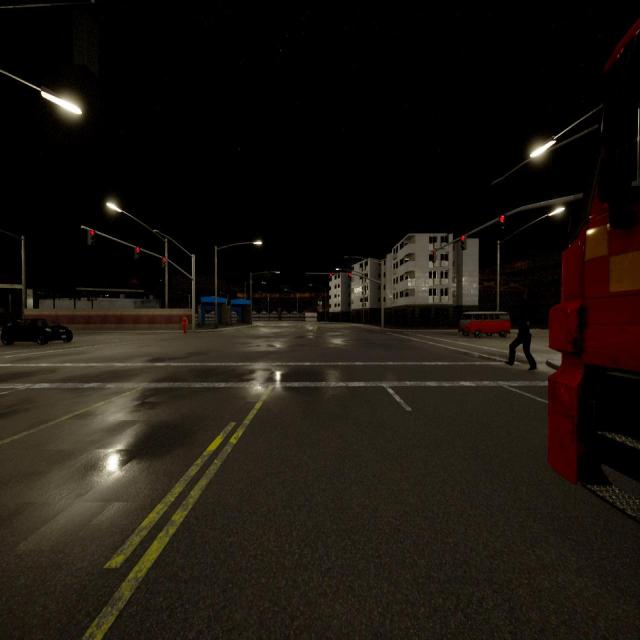Pedestrian: (506, 314, 536, 369), (182, 314, 188, 335)
Vehicle: (552, 26, 640, 513), (1, 318, 72, 344), (460, 312, 510, 337)
traffic_light: (88, 231, 95, 244), (461, 236, 466, 250), (500, 215, 505, 228), (135, 248, 140, 258), (432, 251, 436, 262), (162, 258, 166, 267), (330, 273, 332, 281), (349, 273, 351, 281)
